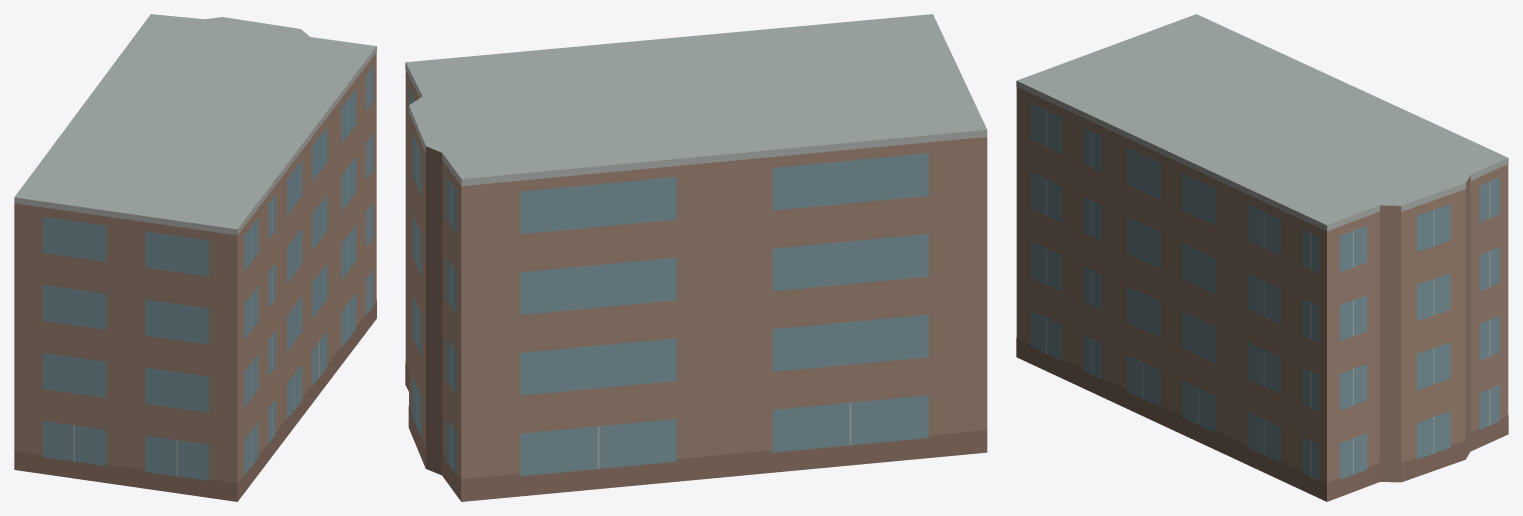
The model's file is survey-upis-32725975.glb.
3 renders of one model, left to right at view 1: azimuth 30°, elevation 25°; view 2: azimuth 150°, elevation 25°; view 3: azimuth 270°, elevation 25°, orthographic. The views are drawn at different scales.
Visible parts, largest first — view 1: survey-upis-32725975.tmp; view 2: survey-upis-32725975.tmp; view 3: survey-upis-32725975.tmp.
Part boxes in pixels (left/top/right/bottom): survey-upis-32725975.tmp: left=14, top=14, right=376, bottom=501; survey-upis-32725975.tmp: left=405, top=14, right=987, bottom=501; survey-upis-32725975.tmp: left=1016, top=14, right=1508, bottom=501.
Bounding box in the file's own units: 18.37 × 11.2 × 18.07.
